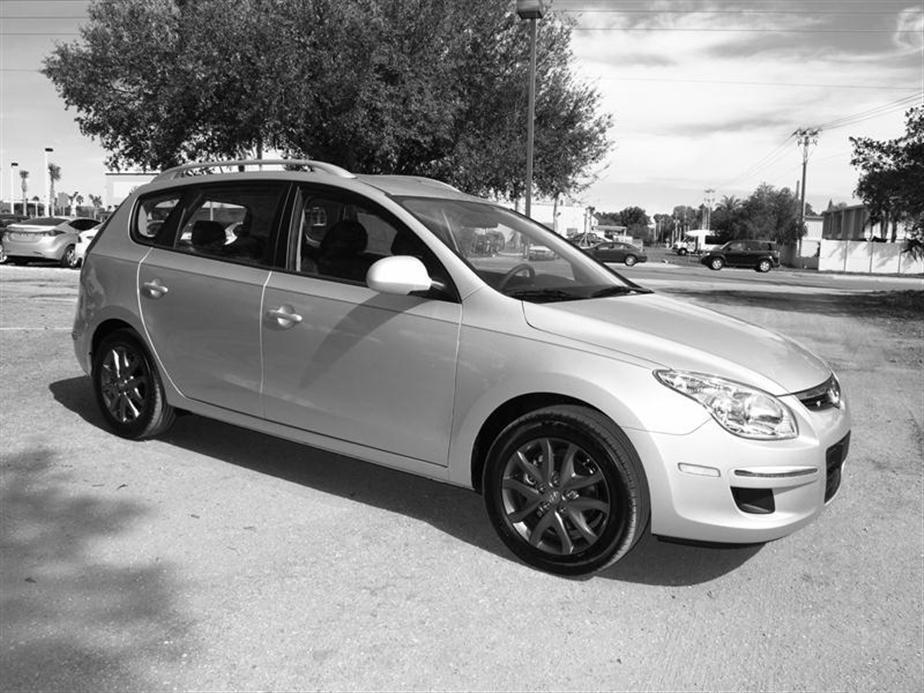car: (69, 145, 855, 581)
